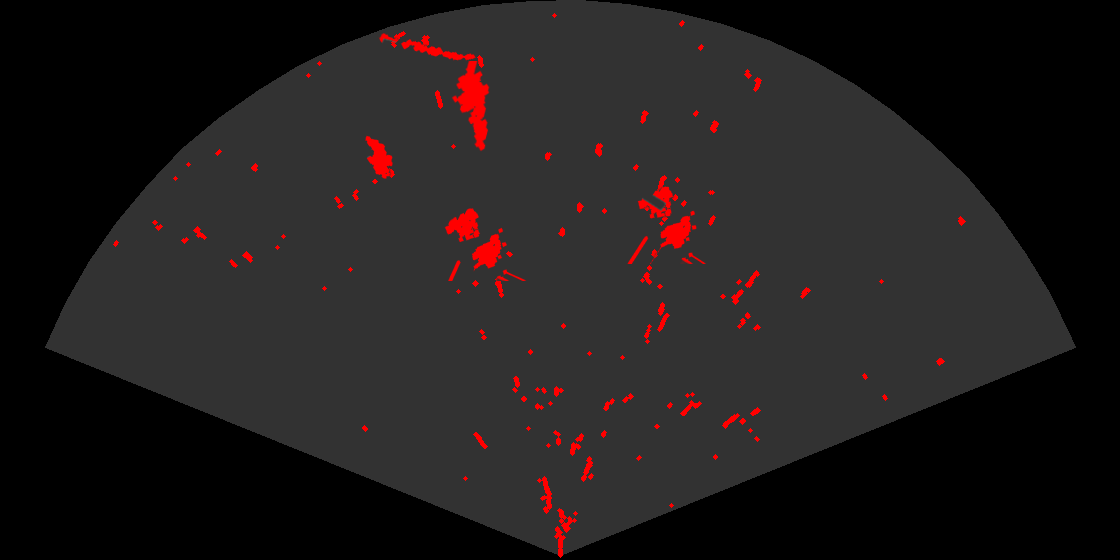AUV: (364, 134, 394, 180)
cage: (626, 185, 707, 264), (443, 207, 527, 281)
chain: (377, 32, 477, 62)
frogman: (450, 61, 491, 153)
